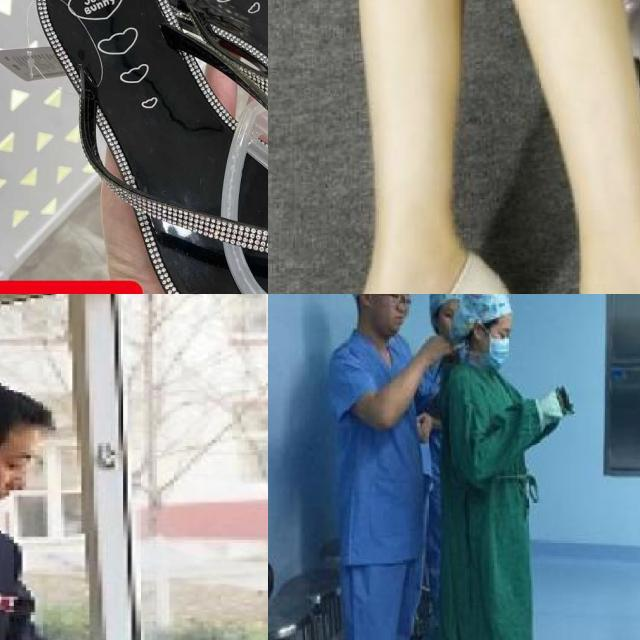Sandals: (14, 0, 268, 294), (268, 216, 520, 294), (475, 180, 640, 294)
face_mask: (485, 317, 517, 365)
face_nomask: (0, 427, 35, 527), (377, 294, 411, 330)
hand_glove: (539, 381, 566, 428)
hand_noglove: (423, 332, 452, 367), (414, 410, 431, 439)
head_nohelmet: (0, 367, 55, 445), (463, 294, 510, 325)
person: (442, 294, 579, 640), (329, 294, 432, 640), (0, 353, 103, 640)
